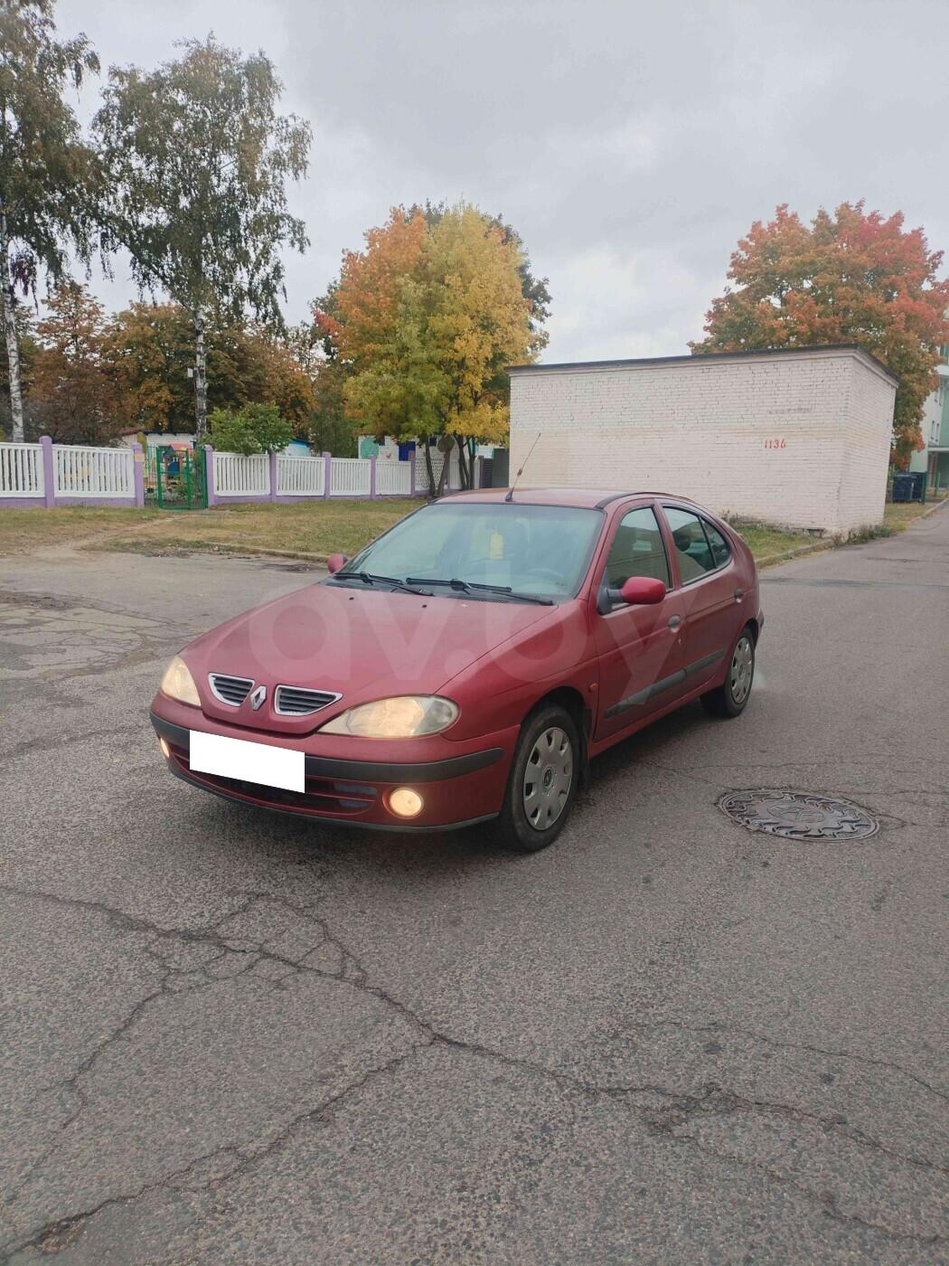Megane_1999-2003: (154, 481, 772, 852)
